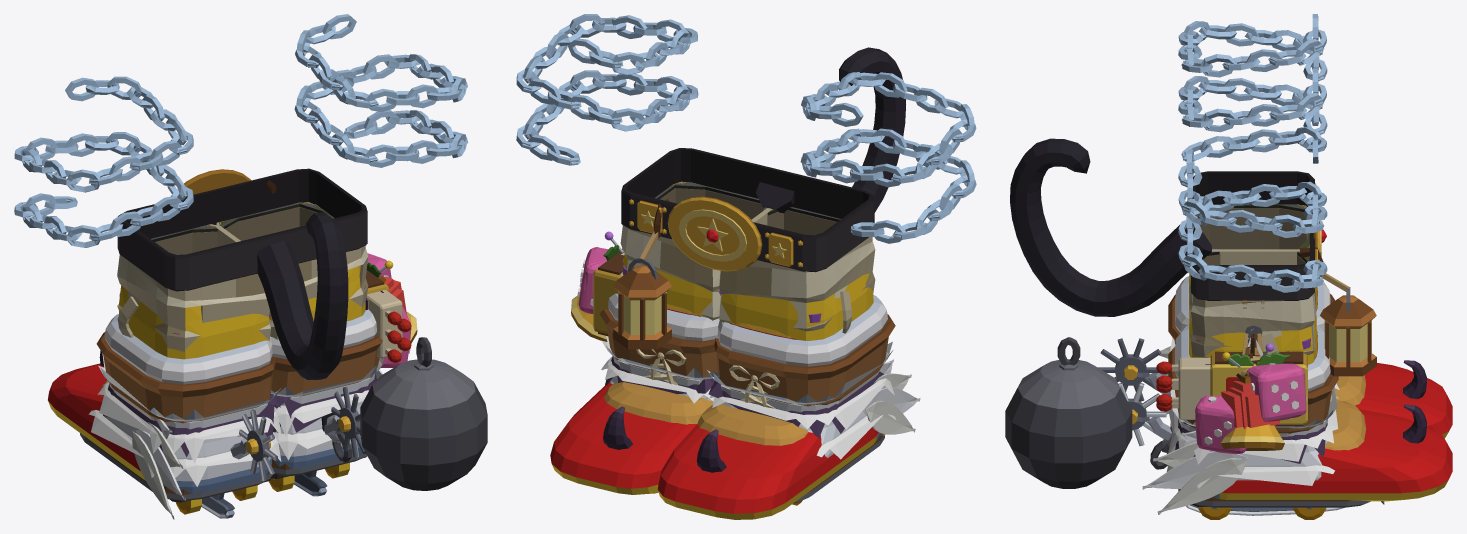
The model's file is kit_legs.glb.
The picture shows the model from 3 angles, left to right: view 1: azimuth 30°, elevation 25°; view 2: azimuth 150°, elevation 25°; view 3: azimuth 270°, elevation 25°; orthographic projection. The views are drawn at different scales.
Visible parts, largest first — view 1: VW_HonedEdge, VW_BruiseBead__Ball, VW_ResistanceBanner_M, VW_ResistanceBanner, VW_FleetBuckle, VW_RimeLocket_M, VW_TollingSash_M, VW_WayfarersBoots_M, VW_RimebittenBoots_M, VW_RimeLocket, VW_MireLily_M, VW_TremorStone_M (+16 smaller); view 2: VW_HonedEdge, VW_ResistanceBanner, VW_ResistanceBanner_M, VW_TremorStone_M, VW_TremorStone, VW_TollingSash_M, VW_WayfarersBoots_M, VW_RimeLocket_M, VW_RimebittenBoots_M, VW_LumenCharm, VW_FleetBuckle, VW_MireLily_M (+13 smaller); view 3: VW_BruiseBead__Ball, VW_FleetBuckle, VW_ResistanceBanner, VW_ResistanceBanner_M, VW_TremorStone, VW_HonedEdge, VW_TollingSash, VW_LoadedDie, VW_RimeLocket, VW_Tinderbox, VW_LumenCharm, VW_QuicksilverRing (+16 smaller).
Boxes of the visible parts, x1=… form: VW_HonedEdge: x1=117, y1=168, x2=367, y2=291; VW_BruiseBead__Ball: x1=360, y1=337, x2=487, y2=490; VW_ResistanceBanner_M: x1=14, y1=76, x2=193, y2=247; VW_ResistanceBanner: x1=294, y1=14, x2=468, y2=167; VW_FleetBuckle: x1=257, y1=212, x2=348, y2=379; VW_RimeLocket_M: x1=88, y1=353, x2=281, y2=493; VW_TollingSash_M: x1=117, y1=224, x2=270, y2=351; VW_WayfarersBoots_M: x1=96, y1=332, x2=275, y2=423; VW_RimebittenBoots_M: x1=104, y1=314, x2=272, y2=518; VW_RimeLocket: x1=270, y1=358, x2=384, y2=469; VW_MireLily_M: x1=119, y1=225, x2=269, y2=359; VW_TremorStone_M: x1=48, y1=363, x2=145, y2=480; VW_HonedEdge: x1=621, y1=148, x2=874, y2=272; VW_ResistanceBanner: x1=516, y1=14, x2=698, y2=165; VW_ResistanceBanner_M: x1=800, y1=72, x2=976, y2=243; VW_TremorStone_M: x1=657, y1=424, x2=878, y2=519; VW_TremorStone: x1=550, y1=382, x2=696, y2=494; VW_TollingSash_M: x1=719, y1=208, x2=875, y2=333; VW_WayfarersBoots_M: x1=714, y1=314, x2=895, y2=406; VW_RimeLocket_M: x1=706, y1=341, x2=896, y2=459; VW_RimebittenBoots_M: x1=717, y1=295, x2=887, y2=366; VW_LumenCharm: x1=613, y1=199, x2=671, y2=349; VW_FleetBuckle: x1=756, y1=47, x2=905, y2=213; VW_MireLily_M: x1=721, y1=273, x2=873, y2=340; VW_BruiseBead__Ball: x1=1005, y1=337, x2=1132, y2=488; VW_FleetBuckle: x1=1010, y1=138, x2=1211, y2=316; VW_ResistanceBanner: x1=1178, y1=127, x2=1327, y2=292; VW_ResistanceBanner_M: x1=1178, y1=14, x2=1327, y2=134; VW_TremorStone: x1=1219, y1=409, x2=1452, y2=501; VW_HonedEdge: x1=1191, y1=171, x2=1326, y2=300; VW_TollingSash: x1=1189, y1=249, x2=1315, y2=357; VW_LoadedDie: x1=1195, y1=301, x2=1306, y2=453; VW_RimeLocket: x1=1166, y1=386, x2=1384, y2=504; VW_Tinderbox: x1=1156, y1=300, x2=1307, y2=425; VW_LumenCharm: x1=1299, y1=247, x2=1376, y2=376; VW_QuicksilverRing: x1=1142, y1=431, x2=1247, y2=514.
Size of the model in its own units: 4.42 by 4.34 by 4.25.
